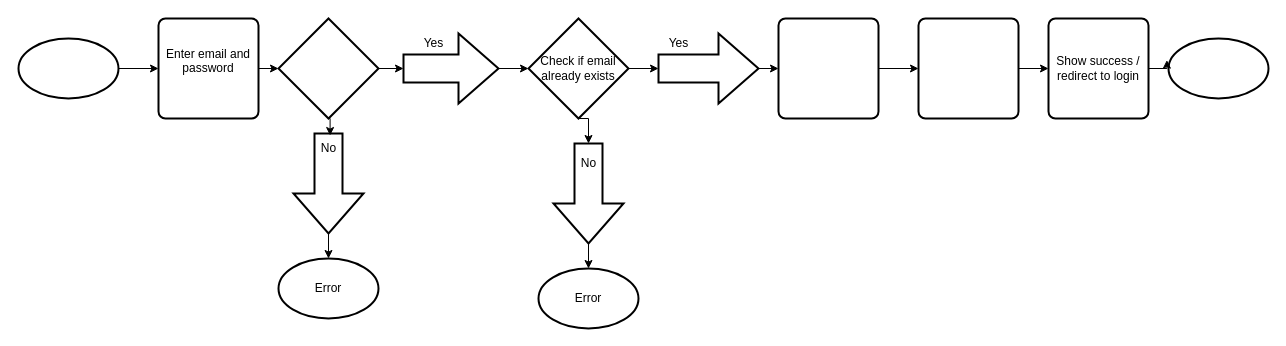
Some shapes in this 1286 by 346 pixel diagram are drawn without their labels. The shapes that lost their labels are listed below. From the top down, each one's box as (x1, y1, x2, y2) in pixels, then its label:
(17, 37, 119, 99): start
(277, 17, 379, 119): Validate input format
(777, 17, 879, 119): Hash password & save user record
(917, 17, 1019, 119): Send confirmation email
(1167, 37, 1269, 99): End
